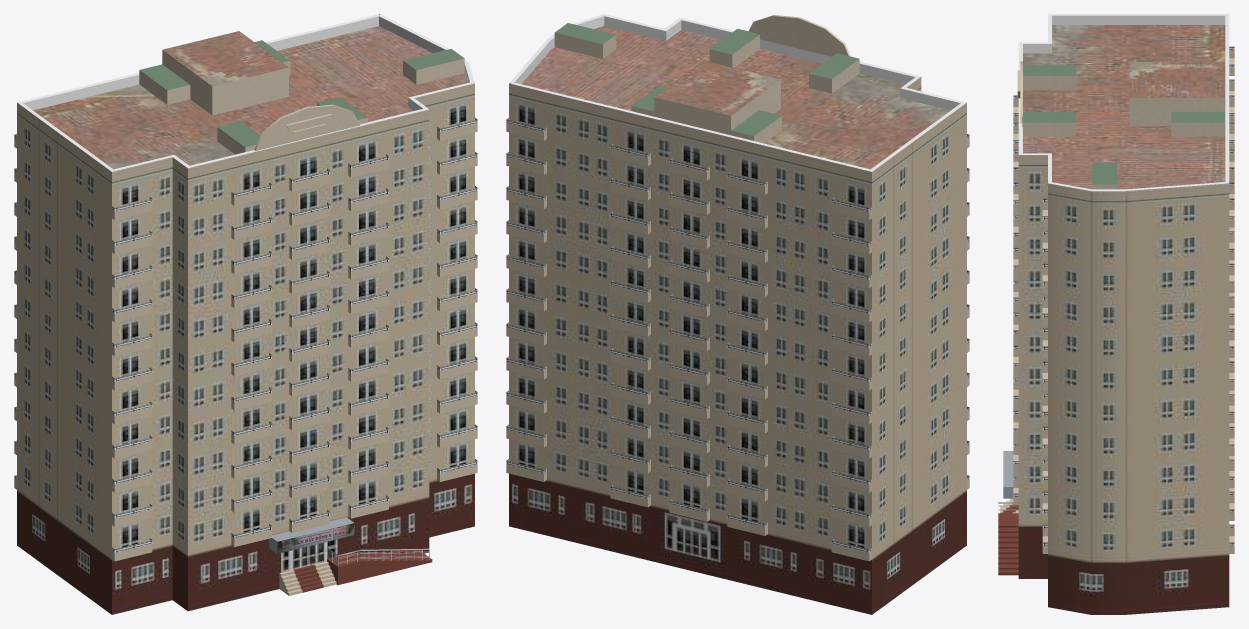
3 renders of one model, left to right at view 1: azimuth 30°, elevation 25°; view 2: azimuth 150°, elevation 25°; view 3: azimuth 270°, elevation 25°, orthographic. The views are drawn at different scales.
Visible parts, largest first — view 1: HN880___N04_B2_Dich_Vong; view 2: HN880___N04_B2_Dich_Vong; view 3: HN880___N04_B2_Dich_Vong.
Part boxes in pixels (left/top/right/bottom): HN880___N04_B2_Dich_Vong: left=14, top=14, right=477, bottom=614; HN880___N04_B2_Dich_Vong: left=506, top=14, right=969, bottom=614; HN880___N04_B2_Dich_Vong: left=998, top=14, right=1234, bottom=614.
Size of the model in its own units: 40.79 by 48.61 by 23.01.
Materials: 1 (1 with a texture image).
